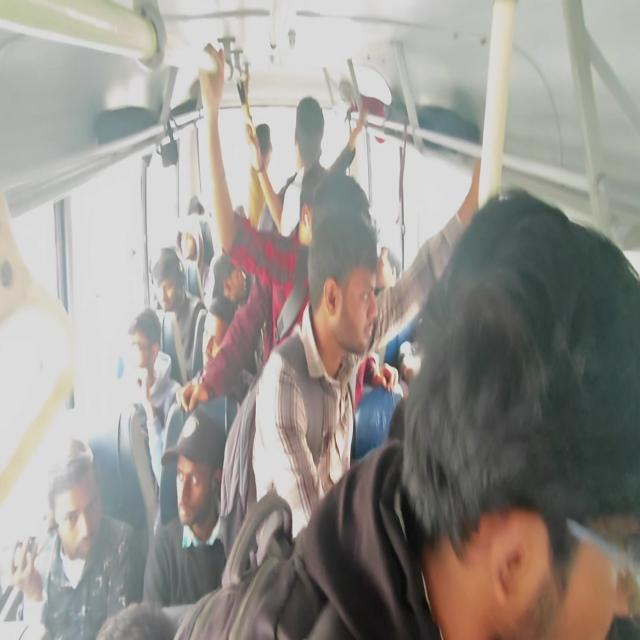person: (170, 186, 638, 638), (250, 158, 480, 544), (187, 41, 370, 414), (10, 436, 144, 639), (142, 410, 228, 608), (247, 95, 367, 235), (128, 307, 184, 493), (152, 246, 206, 378)
